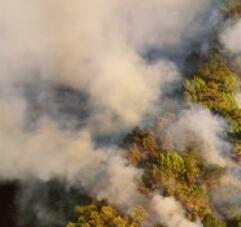yanwu: (1, 3, 238, 225)
